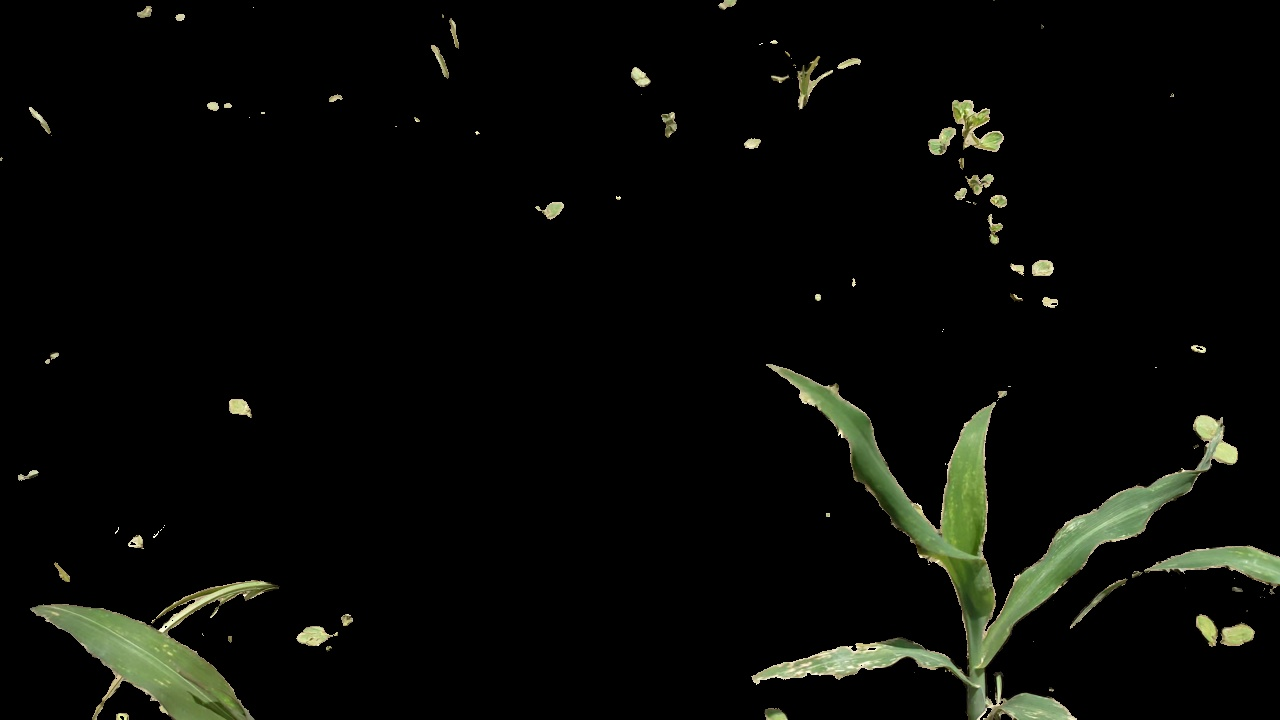crop: (753, 349, 1199, 720), (39, 551, 281, 720)
weed: (745, 35, 878, 122), (915, 101, 1009, 169), (941, 167, 1032, 217), (292, 604, 366, 648), (1193, 611, 1259, 657), (996, 252, 1077, 289), (1195, 415, 1241, 465), (519, 194, 571, 229)
